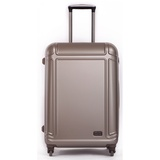luggage: (42, 4, 120, 160)
